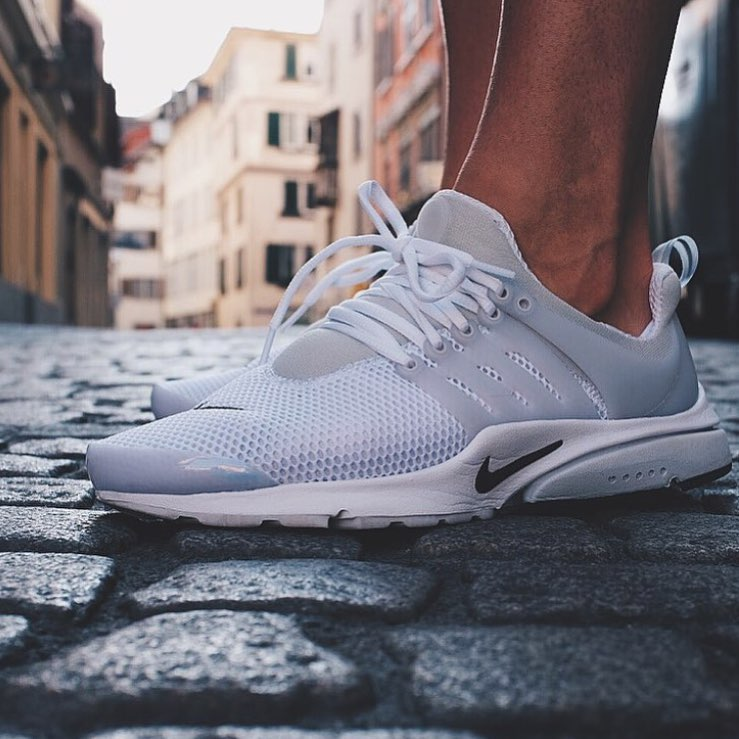sneaker: (63, 175, 739, 550)
